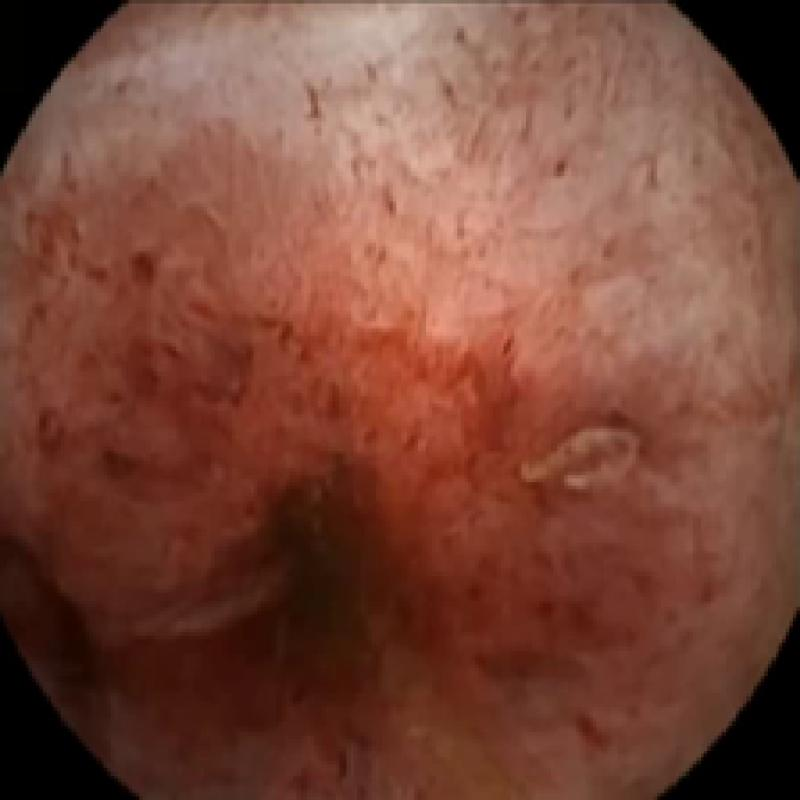bleeding: (0, 243, 707, 800)
